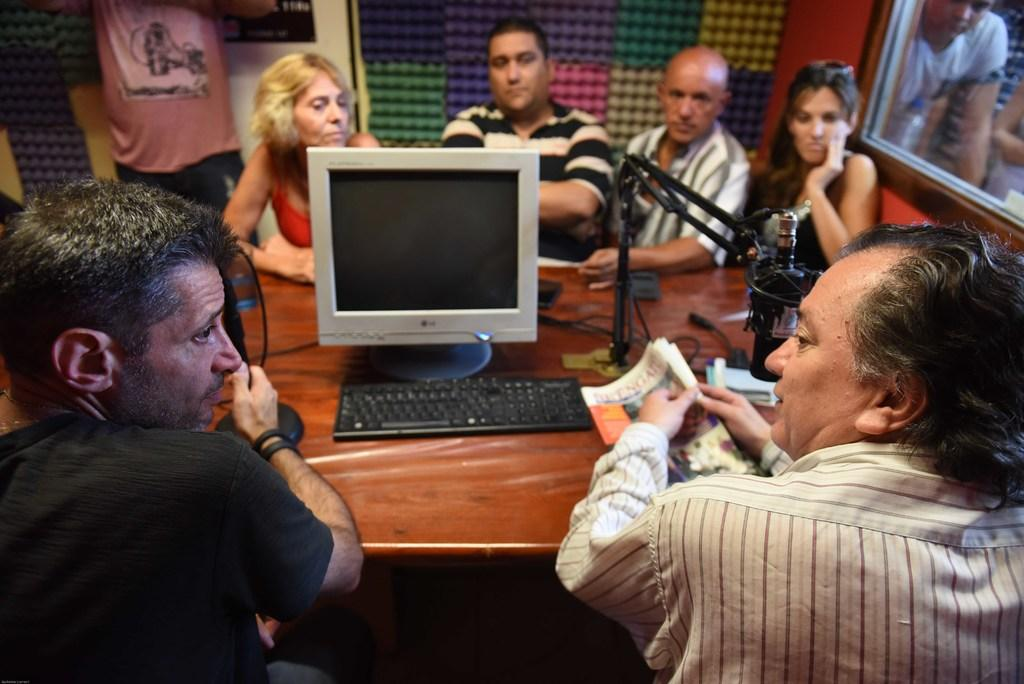Computer-monitor: (287, 132, 554, 377)
